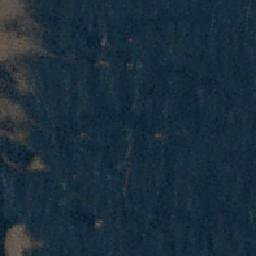debris: (1, 1, 34, 62), (4, 219, 45, 255), (1, 60, 35, 96), (1, 97, 30, 124), (1, 126, 34, 145), (25, 153, 50, 171), (33, 26, 45, 56), (91, 217, 107, 233), (11, 161, 24, 174), (94, 57, 110, 67), (1, 152, 10, 163), (154, 132, 164, 139), (125, 36, 134, 43)
